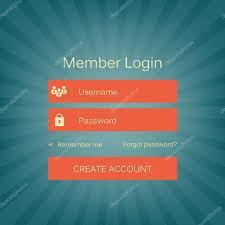button: (48, 157, 178, 182)
checkbox: (49, 141, 56, 149)
icon: (51, 84, 70, 100), (53, 114, 67, 129)
input: (73, 109, 178, 133), (73, 82, 177, 104)
label: (63, 58, 164, 72), (57, 142, 106, 151)
